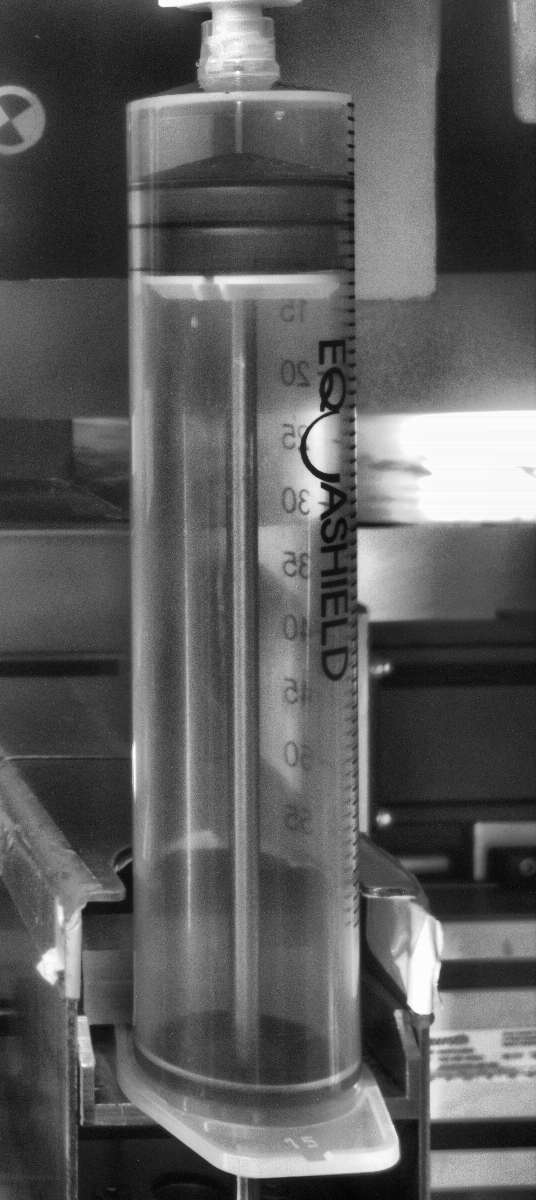piston: (126, 189, 356, 303)
